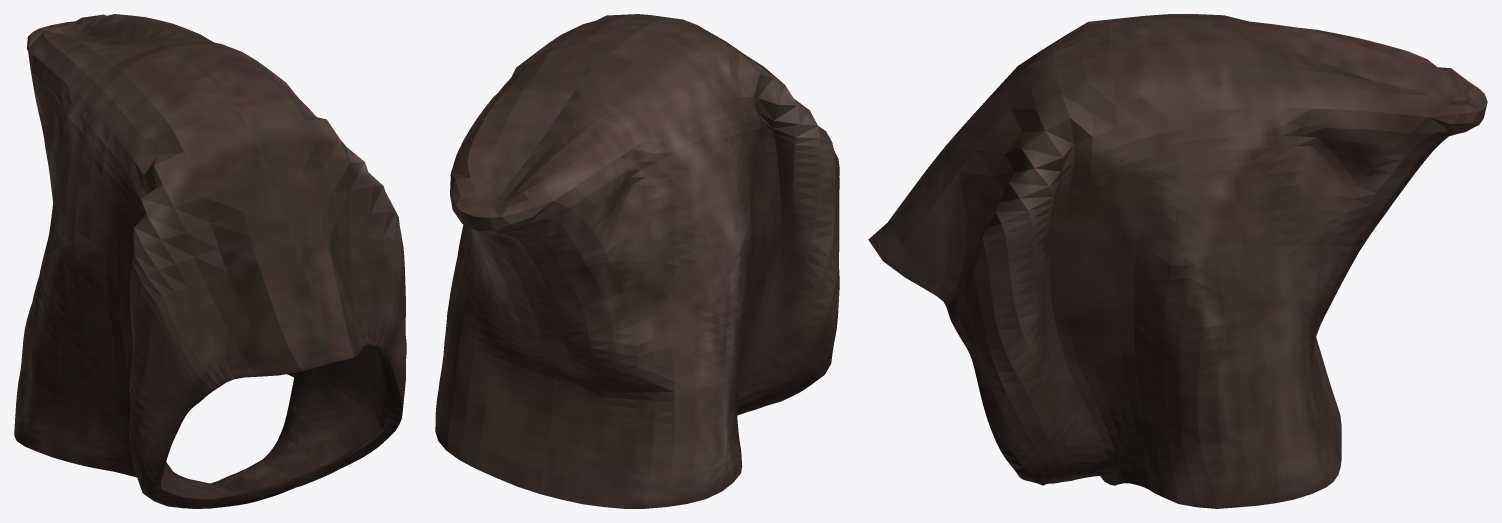
The model's file is mhw_donitz_monk_robe_hood_down.glb.
3 renders of one model, left to right at view 1: azimuth 30°, elevation 25°; view 2: azimuth 150°, elevation 25°; view 3: azimuth 270°, elevation 25°, orthographic. The views are drawn at different scales.
Parts seen in each view (by area): view 1: mhw_donitz_monk_robe_hood_down; view 2: mhw_donitz_monk_robe_hood_down; view 3: mhw_donitz_monk_robe_hood_down.
Part boxes in pixels (box(x1,y1,x2,y2)): mhw_donitz_monk_robe_hood_down: box(14, 14, 406, 508); mhw_donitz_monk_robe_hood_down: box(435, 14, 839, 508); mhw_donitz_monk_robe_hood_down: box(868, 14, 1487, 508).
Bounding box in the file's own units: 0.2246 × 0.3109 × 0.3935.
Materials: 1 (1 with a texture image).
